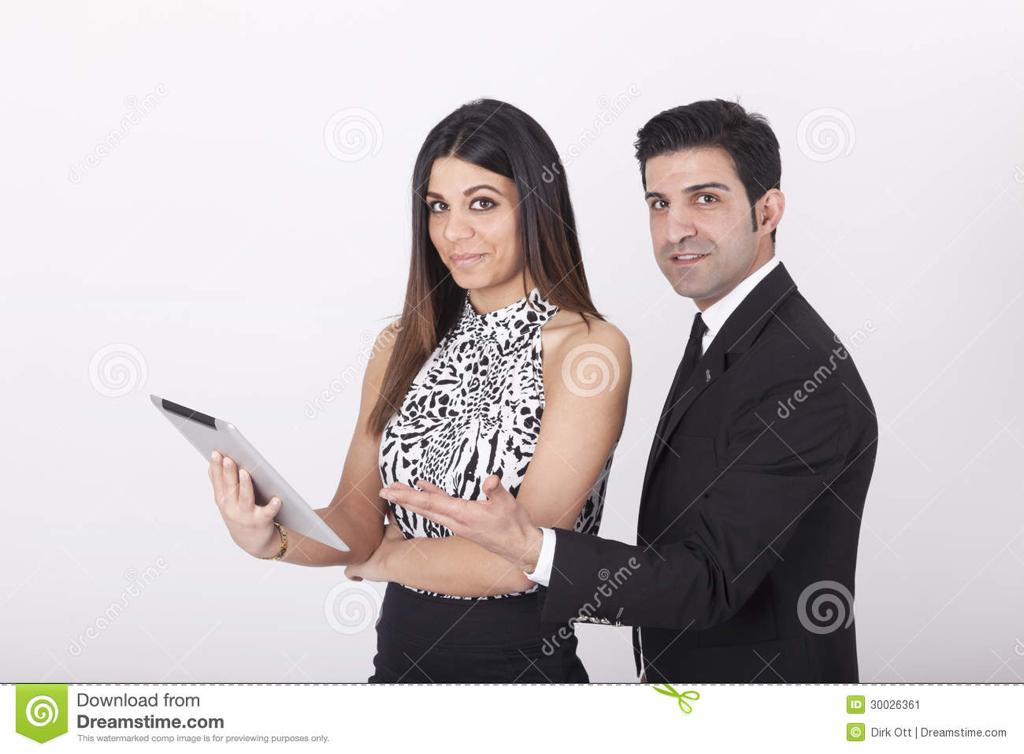face: (644, 150, 742, 296), (426, 160, 514, 288)
